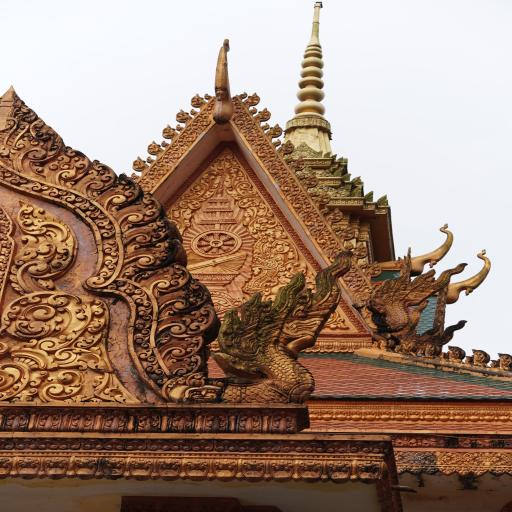la: (10, 194, 78, 294), (4, 290, 91, 338), (11, 116, 64, 178), (157, 302, 220, 346), (151, 277, 213, 318), (123, 236, 186, 271), (114, 191, 165, 232), (48, 143, 90, 188), (78, 152, 119, 198), (120, 218, 178, 250), (98, 172, 141, 212), (156, 334, 209, 366), (143, 262, 192, 296), (40, 371, 86, 403), (90, 374, 138, 404), (56, 346, 108, 372), (167, 352, 208, 378), (224, 169, 259, 198), (226, 409, 262, 434), (260, 409, 296, 434), (190, 170, 219, 200), (193, 409, 229, 433), (28, 408, 61, 433), (160, 409, 194, 433), (62, 408, 94, 433), (94, 409, 126, 434), (126, 409, 160, 432), (128, 456, 158, 480), (0, 407, 28, 432), (186, 457, 215, 481), (214, 458, 243, 482), (156, 457, 186, 480), (242, 458, 272, 481), (16, 456, 47, 478), (45, 456, 76, 478), (272, 238, 302, 260), (102, 456, 131, 478), (271, 459, 301, 480), (328, 460, 358, 481), (317, 236, 342, 261), (212, 150, 240, 172), (300, 459, 328, 481), (462, 453, 512, 465), (359, 460, 385, 483), (76, 457, 104, 478), (247, 215, 281, 232), (36, 335, 72, 351), (414, 452, 462, 464), (74, 331, 107, 347), (280, 183, 306, 203), (305, 218, 330, 238), (292, 201, 318, 220), (267, 166, 294, 184), (155, 150, 182, 168), (140, 166, 167, 184), (257, 149, 283, 167), (244, 134, 272, 150), (170, 134, 196, 151), (185, 118, 210, 135), (13, 388, 41, 403), (234, 118, 260, 134), (344, 273, 365, 292), (0, 457, 18, 479), (284, 260, 310, 275), (29, 370, 50, 388), (236, 196, 264, 209), (88, 299, 108, 317), (88, 316, 108, 334), (132, 342, 154, 358), (176, 198, 202, 211), (258, 439, 282, 453), (148, 369, 170, 384), (20, 177, 42, 192), (281, 439, 304, 453), (449, 434, 472, 448), (475, 434, 498, 448), (133, 314, 155, 328), (124, 438, 146, 452), (216, 438, 238, 452), (422, 434, 444, 448), (136, 301, 155, 317), (148, 438, 169, 452), (192, 438, 213, 452), (304, 440, 325, 454), (58, 438, 80, 451), (326, 441, 348, 454), (142, 356, 162, 370), (98, 264, 118, 278), (170, 438, 190, 452), (238, 439, 258, 453), (394, 435, 419, 446), (128, 289, 149, 302), (232, 102, 249, 118), (134, 328, 151, 344), (200, 102, 215, 120), (98, 225, 117, 239), (349, 440, 371, 452), (114, 281, 134, 294), (372, 441, 392, 454), (16, 438, 37, 450), (83, 438, 104, 450), (58, 189, 77, 202), (38, 438, 58, 450), (394, 452, 414, 464), (105, 438, 123, 451), (480, 408, 498, 421), (92, 214, 111, 226), (353, 291, 369, 305), (103, 240, 119, 254), (41, 184, 58, 197), (72, 197, 90, 209), (86, 276, 107, 286), (104, 252, 120, 265), (4, 172, 21, 184), (406, 408, 423, 420), (465, 408, 481, 420), (450, 408, 466, 420), (85, 206, 102, 217), (392, 408, 406, 421), (0, 438, 15, 450), (438, 466, 456, 476), (498, 408, 512, 420), (436, 409, 450, 421), (376, 409, 391, 420), (406, 465, 422, 475), (422, 465, 438, 475), (422, 409, 435, 421), (348, 408, 362, 419), (456, 466, 471, 476), (501, 435, 512, 448), (362, 409, 375, 420), (336, 342, 350, 352), (321, 342, 335, 352), (306, 342, 320, 352), (334, 410, 348, 420), (471, 468, 488, 476), (488, 468, 505, 476), (320, 408, 333, 418), (351, 342, 363, 352), (308, 409, 320, 419), (106, 283, 118, 292), (331, 224, 342, 233), (396, 465, 407, 474), (375, 207, 386, 214), (335, 198, 346, 205), (365, 203, 376, 209), (505, 467, 512, 476), (324, 178, 334, 184), (313, 159, 323, 165), (298, 150, 308, 156), (364, 342, 372, 349), (323, 159, 332, 165), (310, 260, 319, 266), (348, 199, 358, 204), (336, 178, 344, 184), (172, 193, 180, 199), (184, 179, 192, 185), (200, 162, 208, 168), (204, 158, 212, 164), (208, 154, 216, 160), (244, 166, 252, 172), (262, 192, 270, 198), (268, 200, 276, 206), (280, 218, 288, 224), (290, 232, 298, 238), (303, 250, 311, 256), (168, 197, 177, 202), (176, 188, 185, 193), (211, 150, 220, 155), (240, 158, 247, 164), (257, 183, 264, 189), (272, 205, 279, 211), (300, 246, 307, 252), (314, 265, 321, 271), (164, 201, 172, 206), (180, 184, 188, 189), (192, 171, 200, 176), (196, 167, 204, 172), (236, 154, 244, 159), (242, 162, 250, 167), (248, 171, 256, 176), (274, 210, 282, 215), (286, 228, 294, 233), (188, 176, 197, 180), (259, 188, 267, 192), (265, 197, 273, 201), (284, 224, 292, 228), (296, 242, 304, 246), (306, 256, 314, 260), (162, 205, 168, 210), (251, 175, 257, 180), (278, 214, 284, 219), (254, 180, 261, 184), (294, 238, 301, 242)
lua: (208, 36, 239, 124), (449, 246, 493, 306), (407, 223, 457, 272), (416, 340, 442, 360), (489, 350, 512, 371), (442, 344, 466, 364), (465, 348, 490, 367), (372, 336, 396, 354), (396, 338, 418, 357), (351, 243, 371, 262), (313, 190, 332, 209), (326, 207, 344, 227), (366, 260, 384, 280), (338, 225, 357, 243), (290, 156, 308, 174), (254, 107, 273, 124), (301, 173, 320, 190), (174, 108, 194, 124), (145, 141, 166, 156), (129, 157, 150, 172), (266, 122, 283, 140), (161, 124, 180, 140), (245, 92, 261, 109), (278, 140, 295, 155), (190, 94, 208, 108), (319, 206, 331, 216), (313, 117, 324, 127), (307, 188, 318, 198), (358, 260, 368, 271), (296, 172, 306, 182), (344, 242, 354, 252), (301, 117, 312, 126), (290, 118, 300, 127), (238, 91, 248, 100), (189, 107, 199, 116), (284, 155, 294, 164), (202, 92, 213, 100), (144, 156, 156, 163), (272, 138, 281, 147), (248, 107, 258, 115), (260, 123, 270, 131), (174, 124, 184, 132), (160, 140, 170, 148), (130, 172, 140, 180), (322, 119, 329, 128)
ran: (194, 246, 362, 407), (368, 262, 468, 335), (246, 254, 280, 294), (430, 316, 469, 350), (406, 299, 432, 333), (7, 119, 29, 151), (419, 320, 441, 348), (0, 116, 18, 148), (376, 194, 390, 206), (351, 185, 364, 197), (364, 190, 376, 202), (342, 172, 352, 182), (333, 168, 344, 177), (352, 176, 362, 185), (316, 150, 324, 158), (324, 150, 332, 158), (330, 152, 338, 160), (337, 156, 345, 162)
